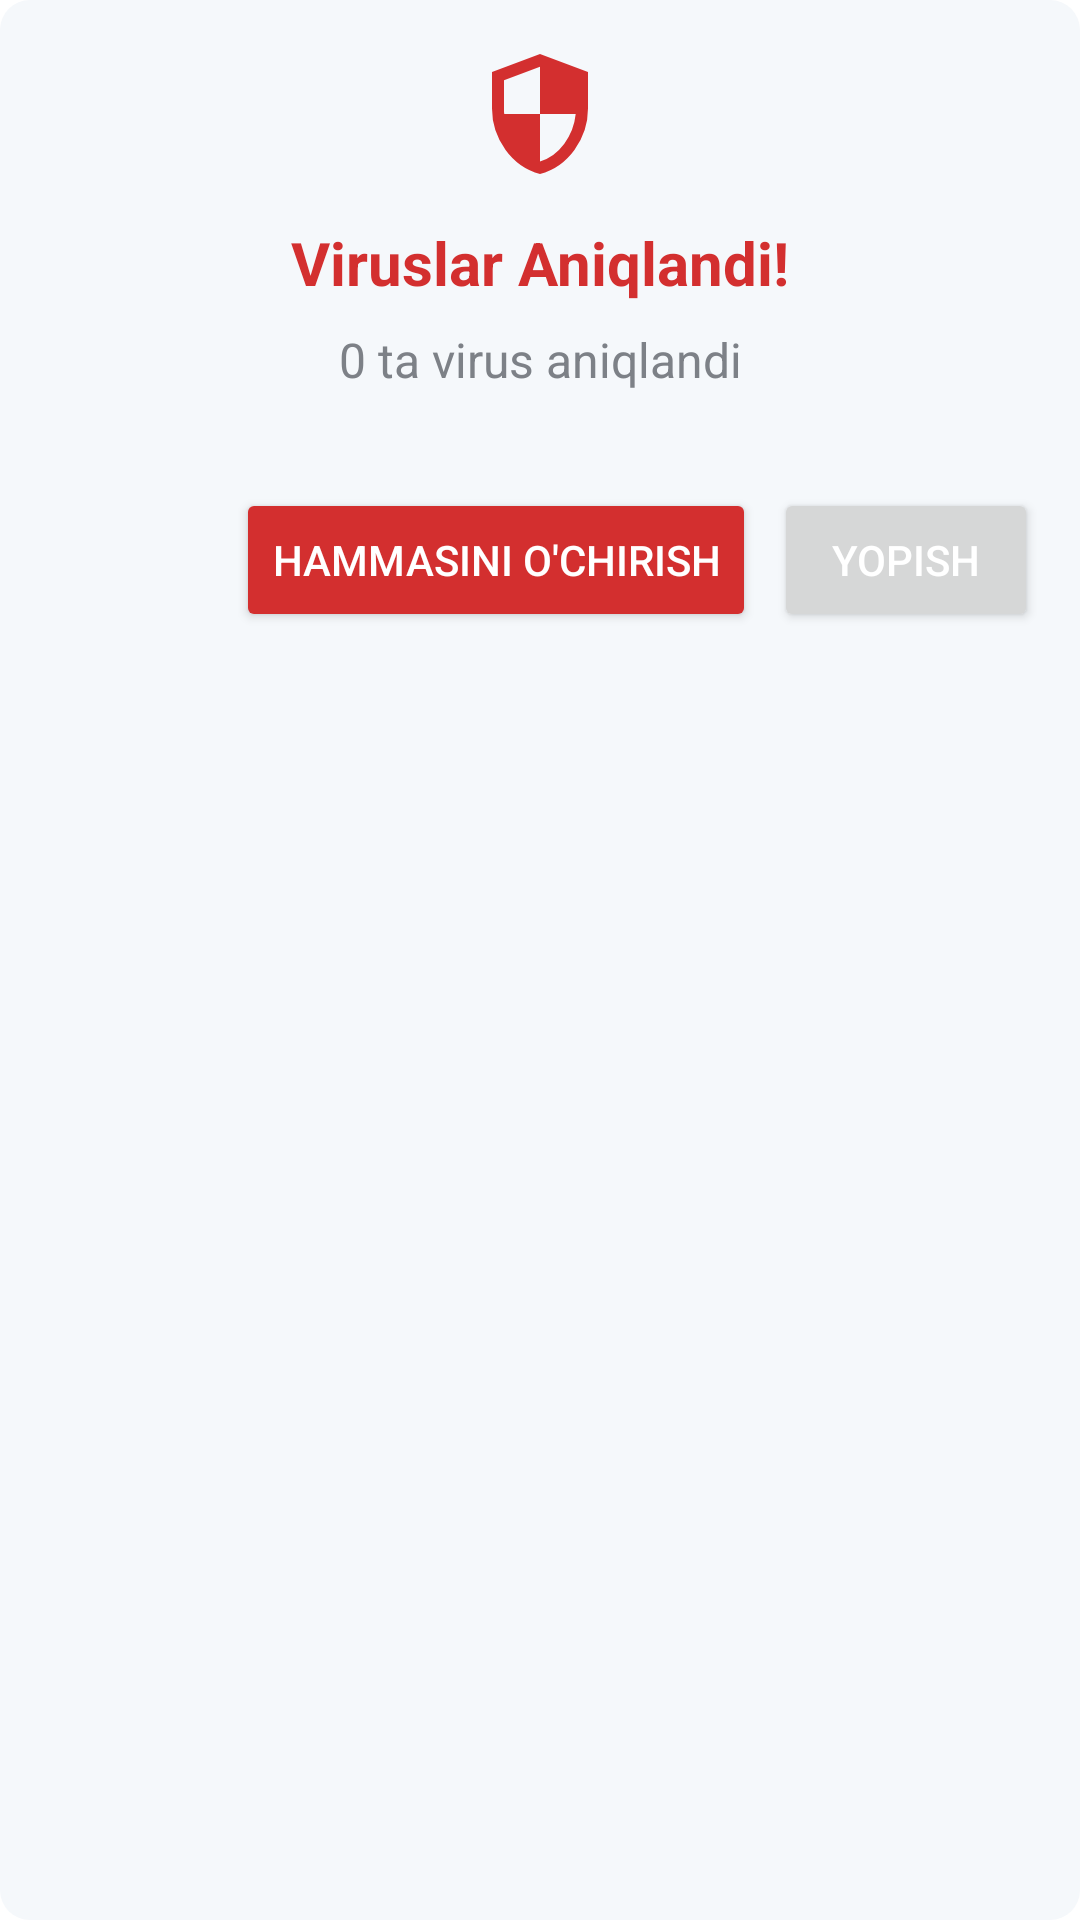

Named icons in this screenshot (1080x1920) and their centers, point (x, y):
antivirus: point (540, 114)
